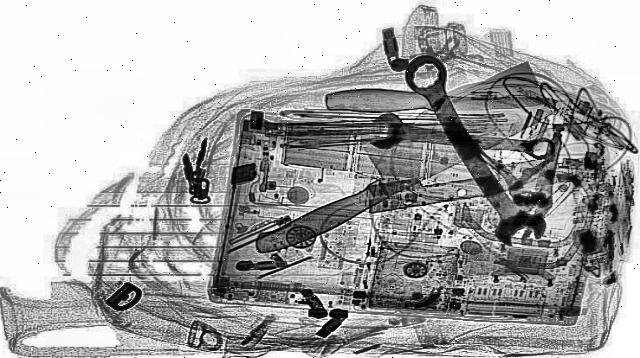Knife: (198, 59, 602, 256), (326, 88, 562, 112)
Wrench: (388, 53, 558, 247), (363, 112, 563, 166)
